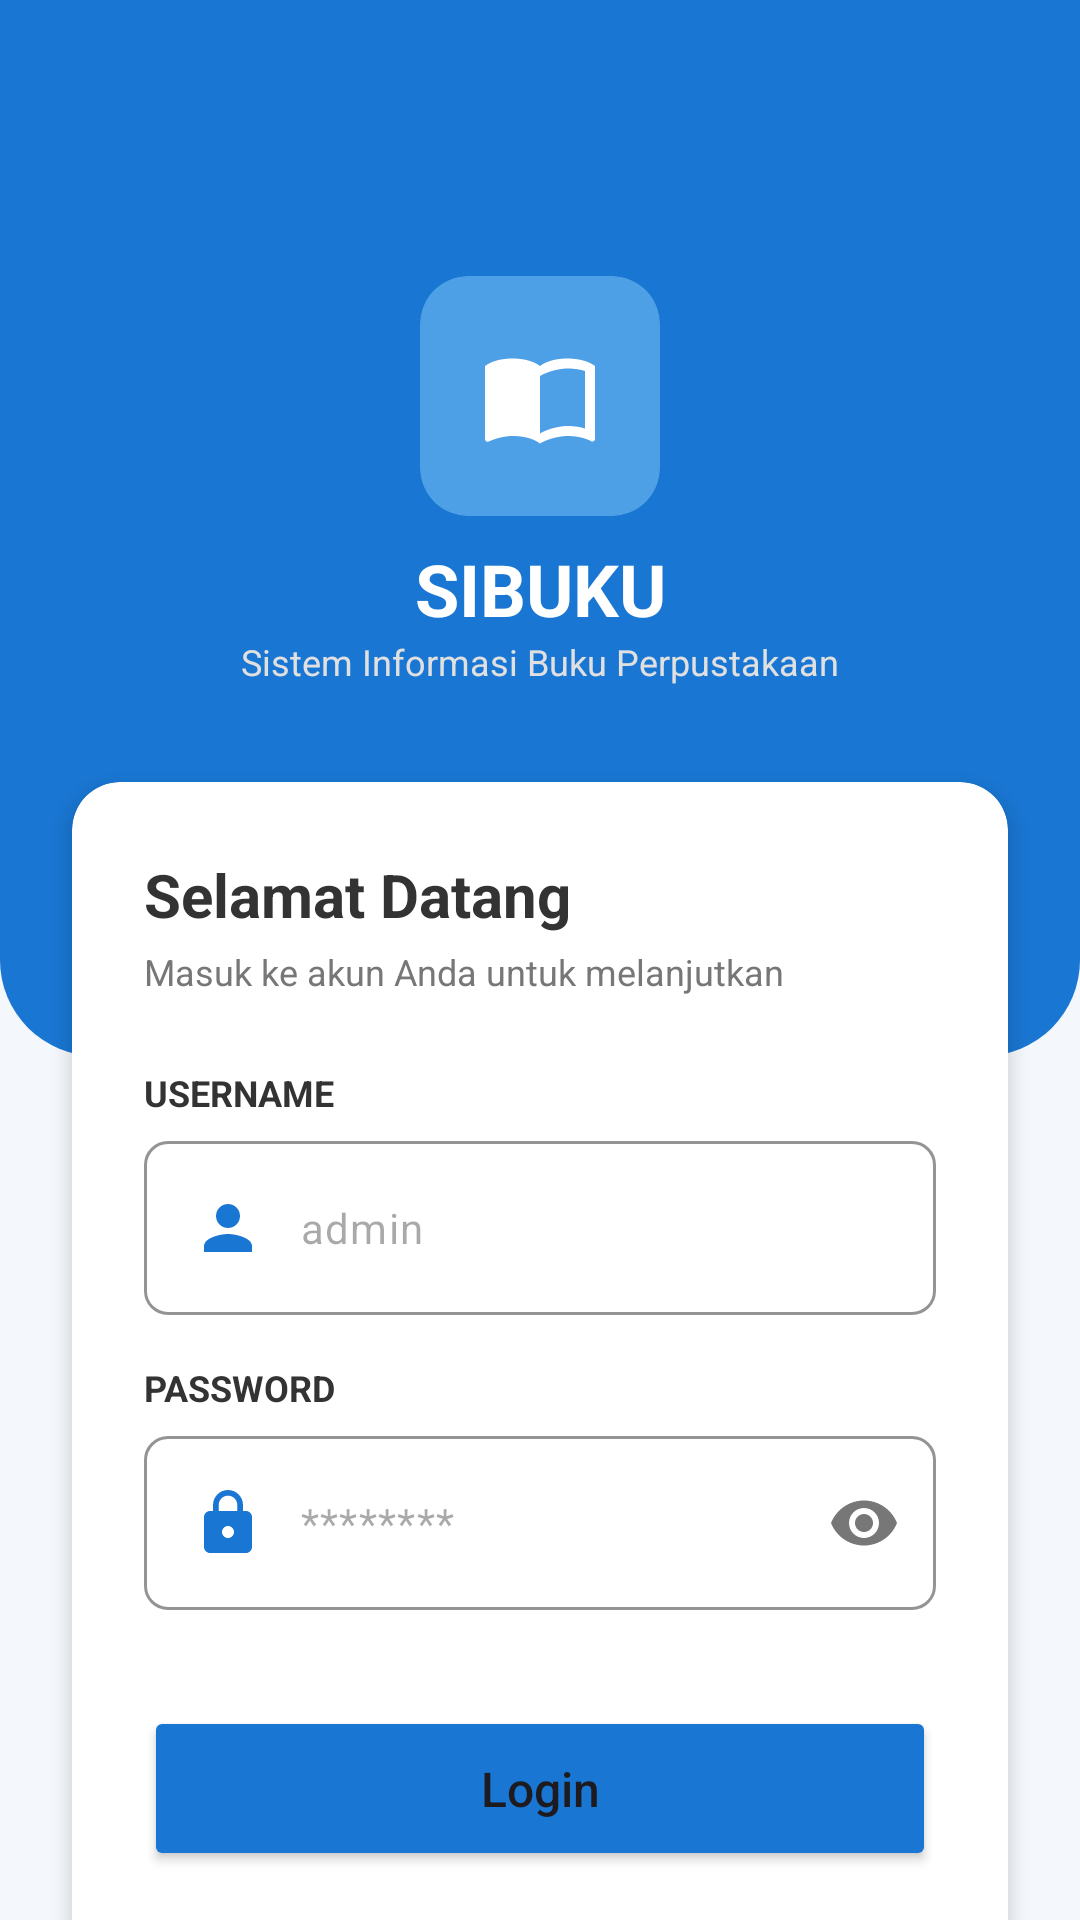

Icons on this 1080×1920 Android screen, each with the point to tap as (x=x, y=y):
book: (x=540, y=401)
